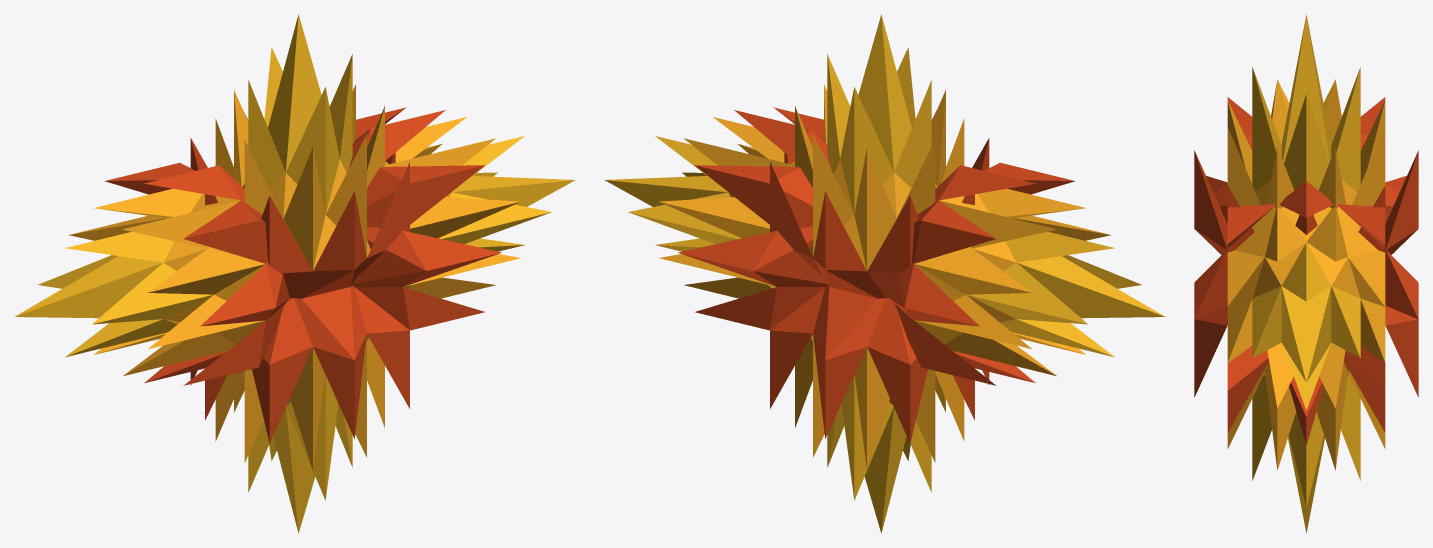
3 renders of one model, left to right at view 1: azimuth 30°, elevation 25°; view 2: azimuth 150°, elevation 25°; view 3: azimuth 270°, elevation 25°, orthographic.
Size of the model in its own units: 156 by 138 by 54.
Materials: 1 (1 with a texture image).
